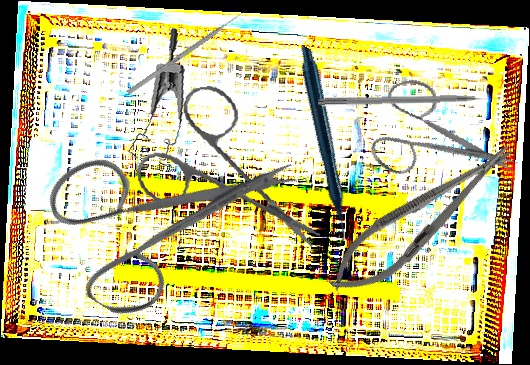Handpiece: (231, 45, 412, 247)
Iris Scissors: (12, 63, 306, 360), (126, 73, 322, 270), (353, 55, 523, 212)
Needle Holder: (316, 127, 528, 311)
Pusher: (126, 7, 249, 96), (317, 94, 505, 108)
Speculum: (112, 27, 198, 172)
